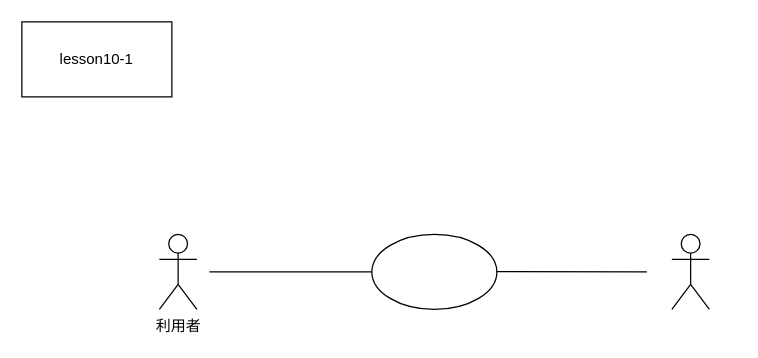
This 758x358 diagram has some shape labels left out. The shapes that lost their labels are listed below. From the top down, each one's centre as x and y in pixels, then its label:
the point at 434,271: 切符を購入する
the point at 690,271: 切符の自販機
